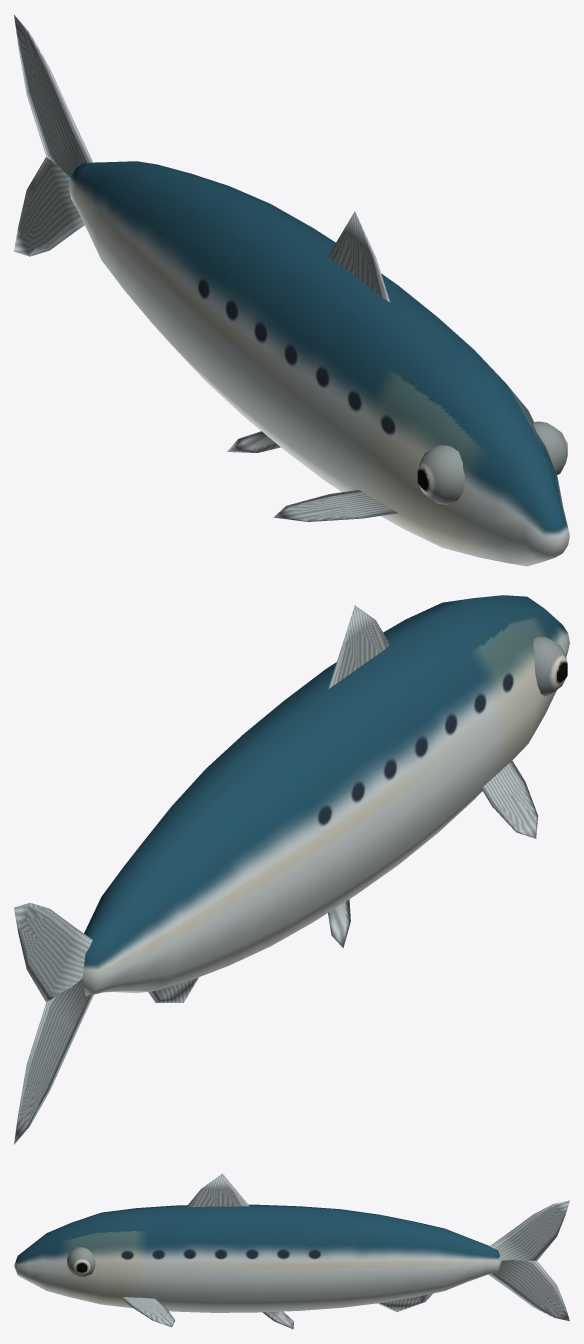
Rendered from sardine.glb.
3 renders of one model, top to bottom at view 1: azimuth 30°, elevation 25°; view 2: azimuth 150°, elevation 25°; view 3: azimuth 270°, elevation 25°, orthographic. The views are drawn at different scales.
Visible parts, largest first — view 1: Sardine; view 2: Sardine; view 3: Sardine.
Part boxes in pixels (left/top/right/bottom): Sardine: left=14, top=15, right=569, bottom=566; Sardine: left=14, top=595, right=569, bottom=1144; Sardine: left=14, top=1173, right=569, bottom=1329.
Size of the model in its own units: 0.0546 by 0.0575 by 0.196.
1 material, 1 textured.
